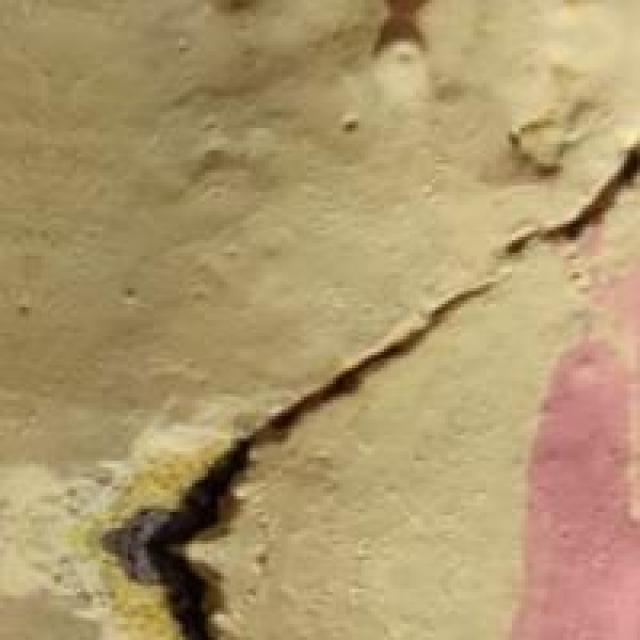crack: (121, 154, 636, 636)
